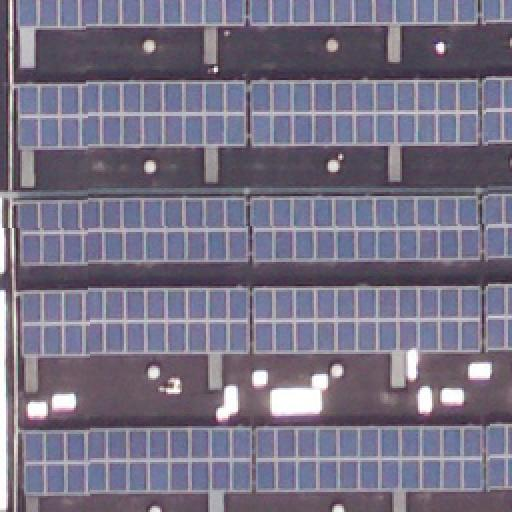solar-panel: (19, 285, 245, 355), (18, 80, 246, 148), (16, 195, 248, 261), (253, 427, 483, 493), (21, 427, 251, 493), (249, 79, 479, 145), (252, 287, 480, 353), (249, 197, 479, 259), (19, 0, 245, 28), (249, 0, 479, 26), (481, 80, 511, 144), (484, 284, 512, 348), (484, 196, 512, 256), (486, 424, 512, 488), (481, 1, 511, 23)
